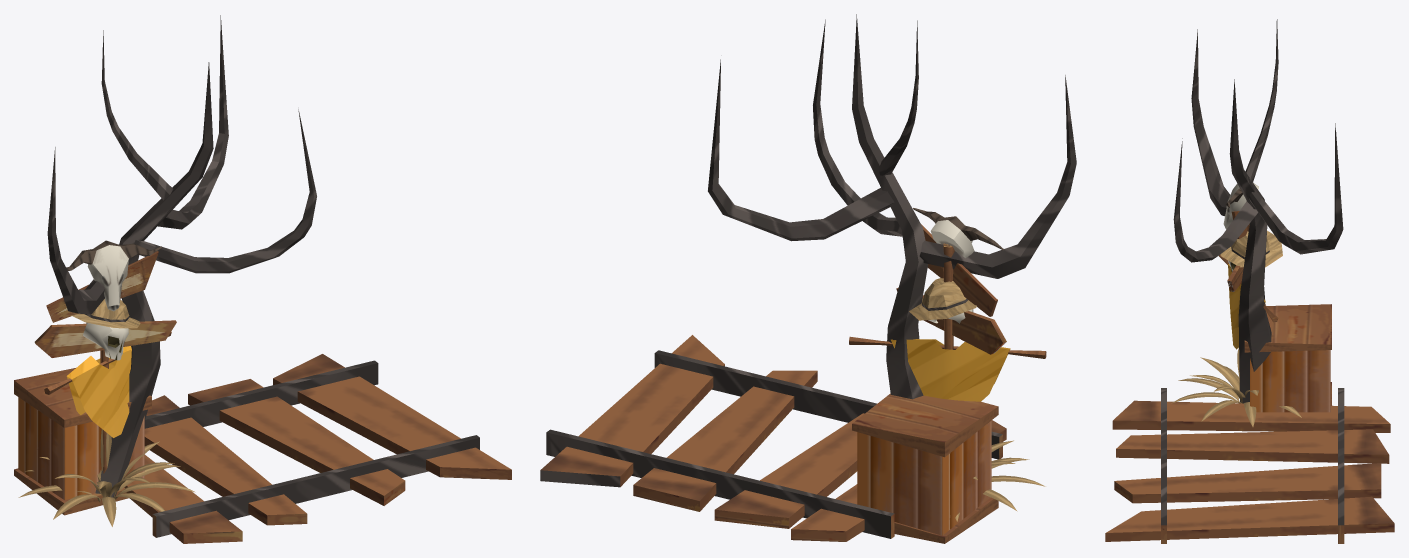
The model's file is arbre.FBX.
3 renders of one model, left to right at view 1: azimuth 30°, elevation 25°; view 2: azimuth 150°, elevation 25°; view 3: azimuth 270°, elevation 25°, orthographic. The views are drawn at different scales.
Visible parts, largest first — view 1: Box010, Line001, Box012, Cylinder001, Cylinder002, Plane012; view 2: Box010, Line001, Box012, Cylinder002, Cylinder001, Plane012; view 3: Box010, Line001, Box012, Plane012, Cylinder002, Cylinder001.
Boxes of the visible parts, bbox=[...] form: Box010: bbox=[124, 354, 511, 543]; Line001: bbox=[47, 15, 316, 497]; Box012: bbox=[14, 368, 151, 515]; Cylinder001: bbox=[34, 240, 176, 473]; Cylinder002: bbox=[44, 299, 171, 437]; Plane012: bbox=[18, 429, 195, 526]; Box010: bbox=[540, 335, 1006, 541]; Line001: bbox=[708, 14, 1076, 399]; Box012: bbox=[852, 393, 998, 543]; Cylinder002: bbox=[849, 278, 1046, 401]; Cylinder001: bbox=[896, 208, 1006, 354]; Plane012: bbox=[955, 440, 1045, 521]; Box010: bbox=[1105, 388, 1394, 543]; Line001: bbox=[1173, 19, 1343, 403]; Box012: bbox=[1244, 304, 1331, 412]; Plane012: bbox=[1171, 347, 1301, 426]; Cylinder002: bbox=[1219, 230, 1282, 349]; Cylinder001: bbox=[1223, 183, 1258, 291].
Size of the model in its own units: 391 by 417 by 273.
6 materials, 6 textured.
